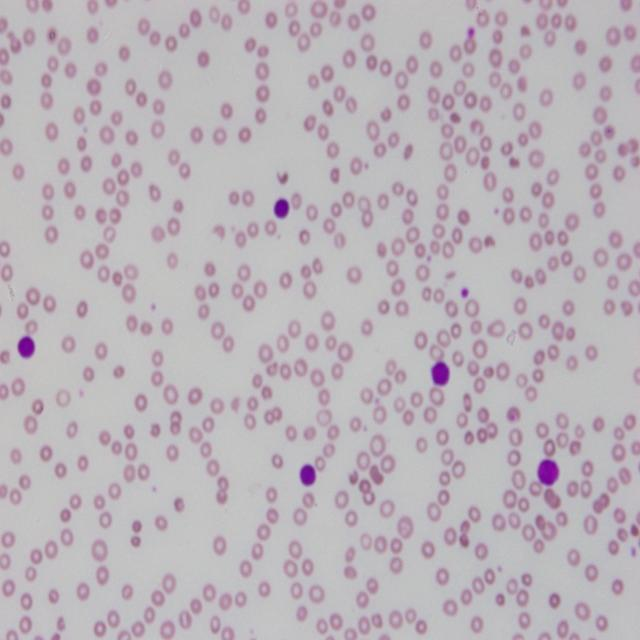cell: (538, 460, 559, 485), (431, 362, 450, 385), (18, 335, 35, 358), (300, 465, 316, 487), (274, 198, 290, 218)
